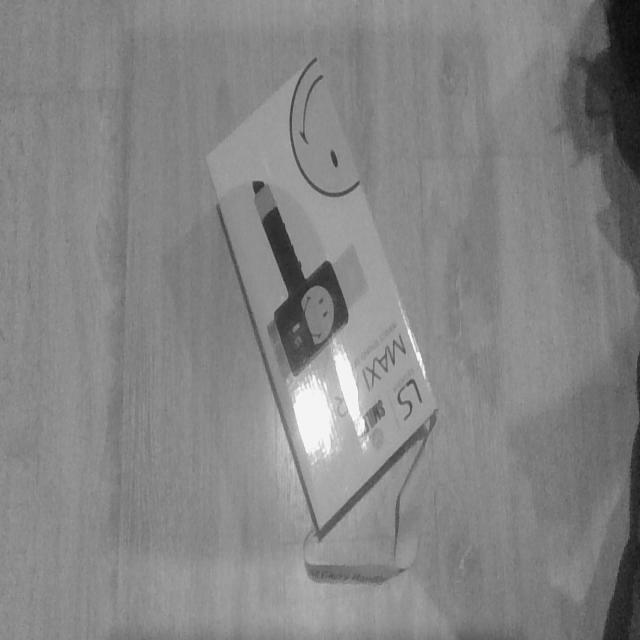Dryer: (204, 52, 438, 562)
